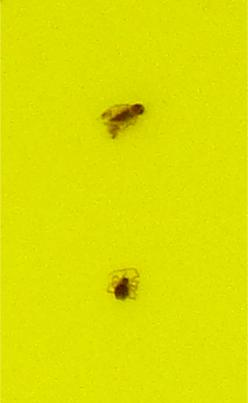Araneae: (110, 275, 141, 303)
Hemiptera: (100, 100, 148, 141)
